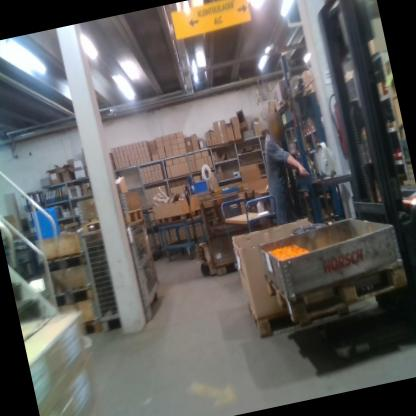pallet: (265, 249, 413, 327), (243, 279, 340, 338), (43, 280, 95, 310), (38, 248, 86, 275), (157, 208, 200, 228), (75, 315, 104, 343), (124, 209, 144, 226), (79, 217, 101, 232)
pallet_truck: (305, 0, 416, 345), (177, 175, 221, 277)
stillage: (199, 189, 260, 277), (83, 231, 121, 331), (127, 227, 165, 319)
